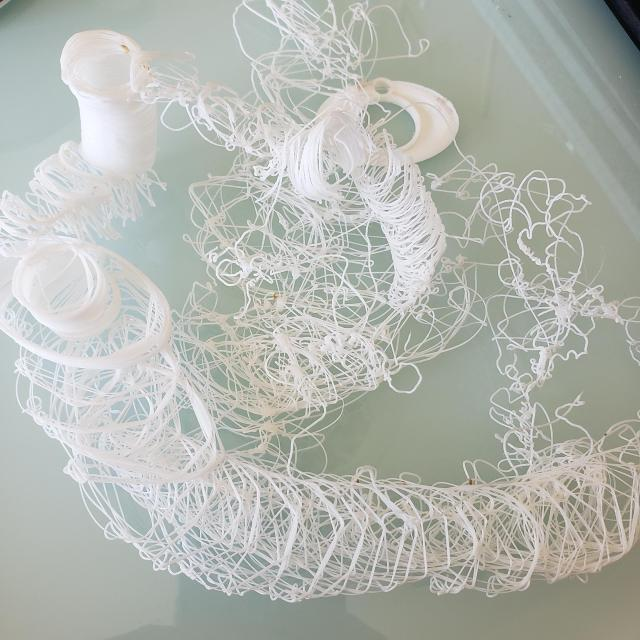spaghetti: (3, 7, 639, 601)
